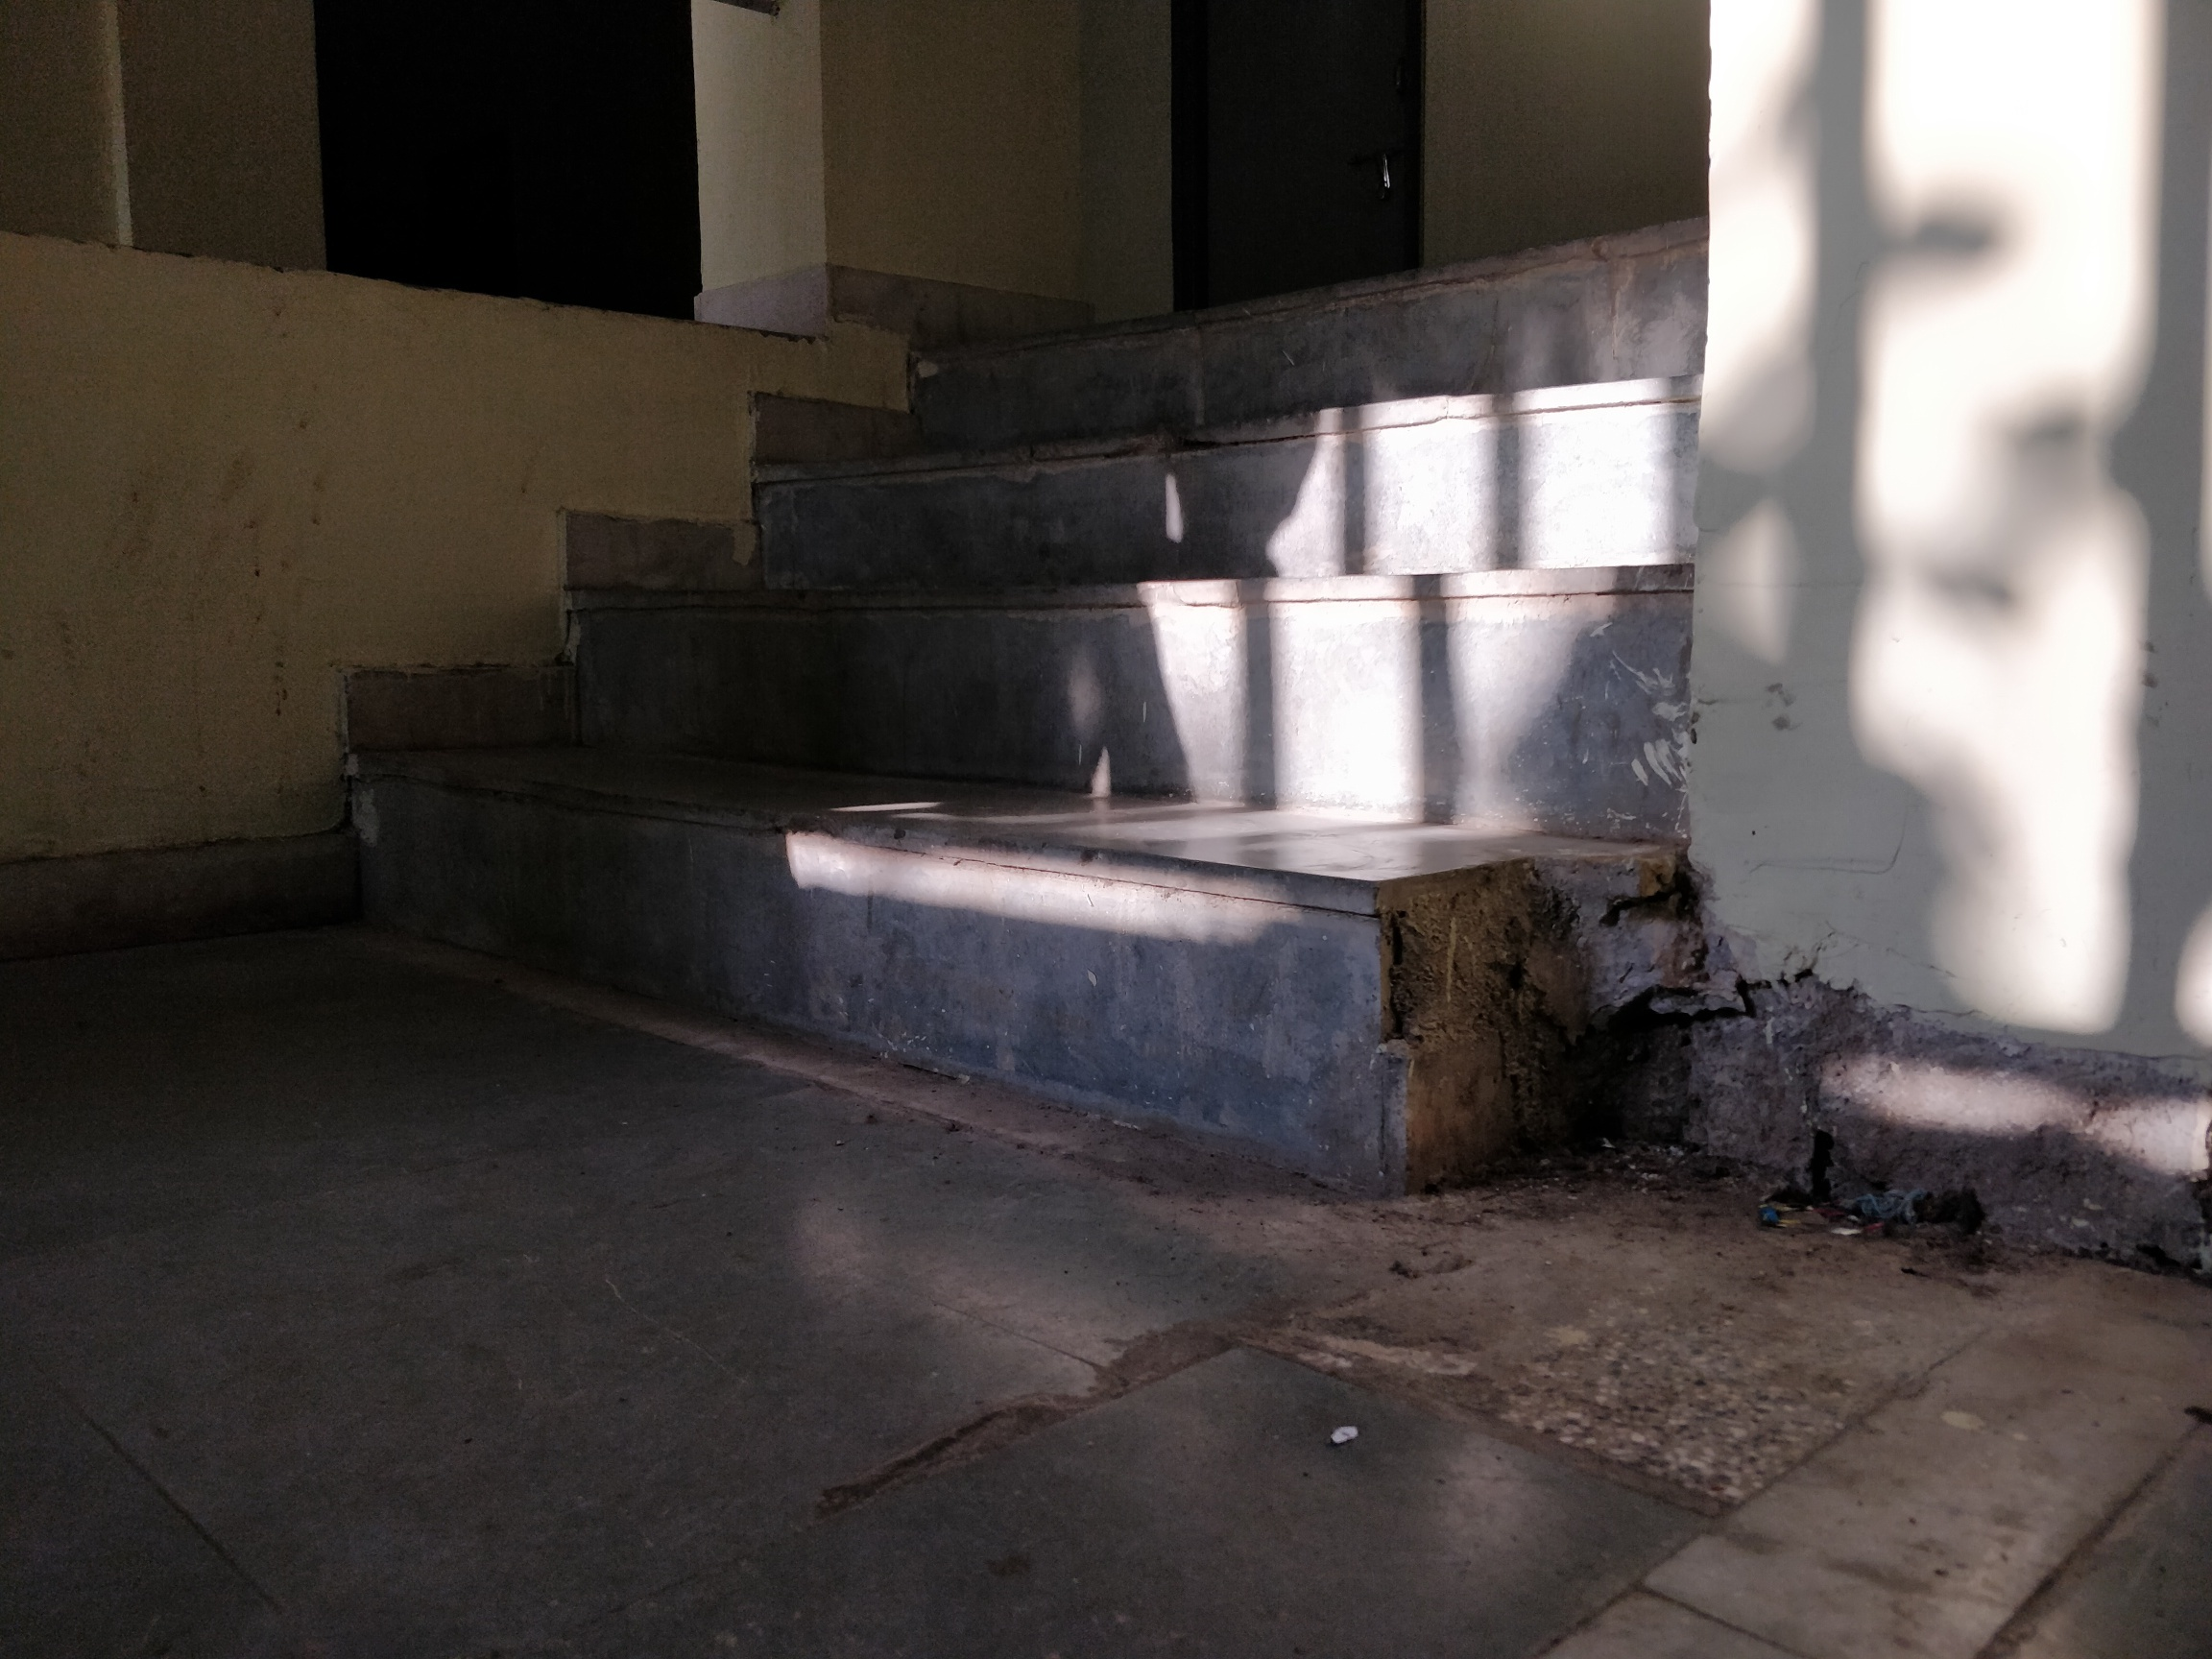stairs_up: (427, 220, 1707, 1011)
